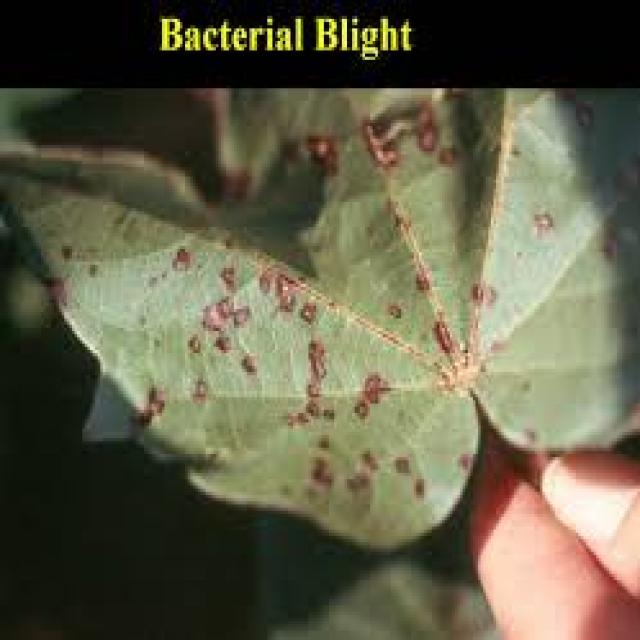Bacterial Blight: (125, 138, 449, 522)
